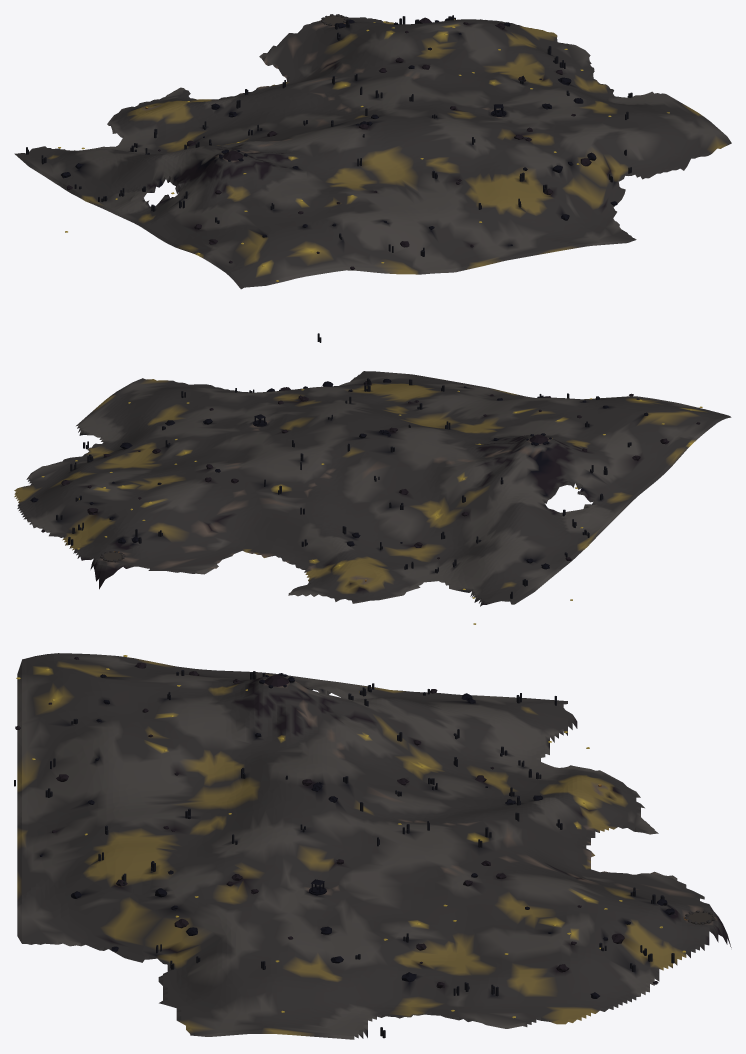
The model's file is ash_isl_vent_lod1.glb.
3 views of the same model, one above another, from view 1: azimuth 30°, elevation 25°; view 2: azimuth 150°, elevation 25°; view 3: azimuth 270°, elevation 25° (orthographic). The views are drawn at different scales.
Visible parts, largest first — view 1: geometry_0; view 2: geometry_0; view 3: geometry_0.
Part boxes in pixels (x1,y1,x2,y2): geometry_0: [14, 14, 731, 342]; geometry_0: [14, 371, 731, 624]; geometry_0: [14, 653, 731, 1039].
Size of the model in its own units: 341 by 59.42 by 316.
